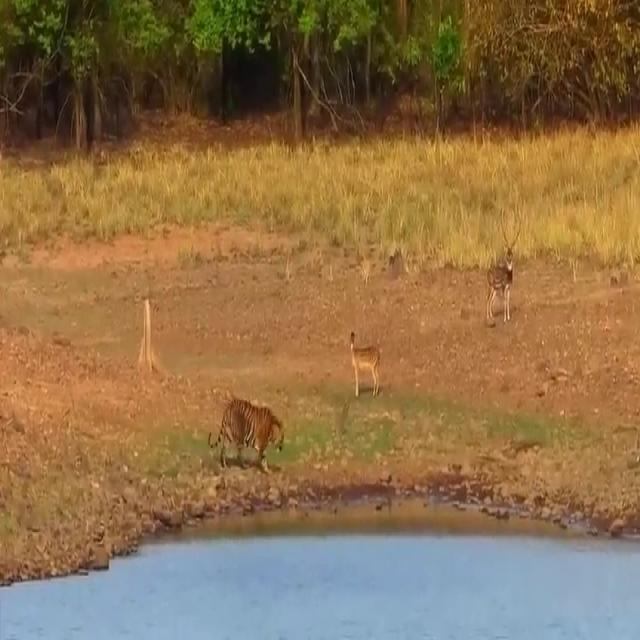tiger: (208, 396, 285, 473)
